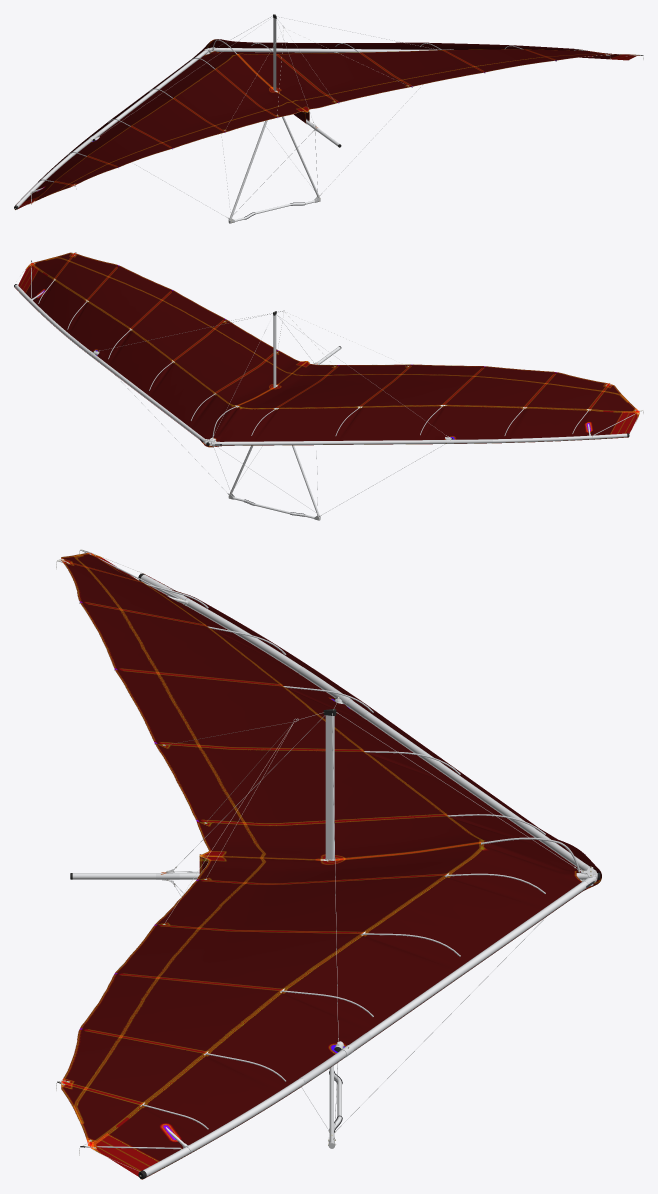
3 renders of one model, top to bottom at view 1: azimuth 30°, elevation 25°; view 2: azimuth 150°, elevation 25°; view 3: azimuth 270°, elevation 25°, orthographic. The views are drawn at different scales.
Parts seen in each view (by area): view 1: Sail top surface, Sail P5 undersurface, LE front R, LE front L, LE rear L; view 2: Sail top surface, Sail P5 undersurface, LE front L, LE rear L, LE front R; view 3: Sail top surface, Sail P5 undersurface, LE front R, LE front L, LE rear R, Kingpost, LE rear L.
Boxes of the visible parts, x1=… form: Sail top surface: x1=15, y1=39, x2=639, y2=209; Sail P5 undersurface: x1=17, y1=51, x2=637, y2=209; LE front R: x1=220, y1=48, x2=429, y2=52; LE front L: x1=101, y1=52, x2=204, y2=132; LE rear L: x1=15, y1=153, x2=73, y2=207; Sail top surface: x1=14, y1=252, x2=639, y2=446; Sail P5 undersurface: x1=18, y1=265, x2=638, y2=446; LE front L: x1=220, y1=440, x2=429, y2=445; LE rear L: x1=493, y1=433, x2=627, y2=442; LE front R: x1=100, y1=360, x2=202, y2=439; Sail top surface: x1=61, y1=552, x2=601, y2=1179; Sail P5 undersurface: x1=93, y1=555, x2=589, y2=1176; LE front R: x1=367, y1=881, x2=587, y2=1038; LE front L: x1=364, y1=712, x2=585, y2=870; LE rear R: x1=143, y1=1078, x2=304, y2=1176; Kingpost: x1=325, y1=715, x2=334, y2=859; LE rear L: x1=140, y1=574, x2=302, y2=672.
Size of the model in its own units: 9.12 by 2.8 by 3.51.
39 materials, 10 textured.
